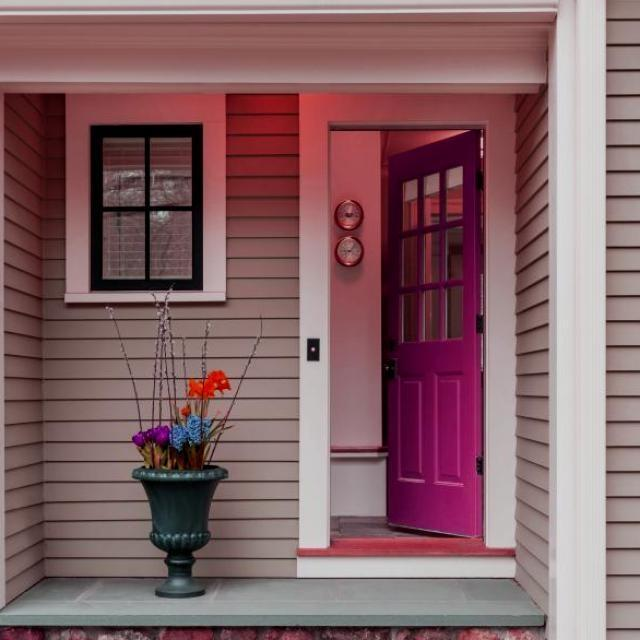door: (383, 128, 482, 538)
